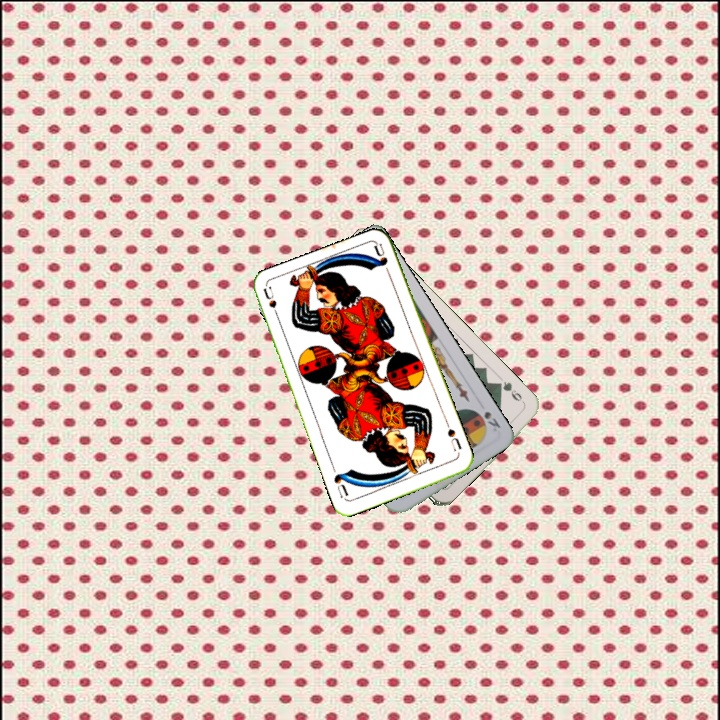G9: (493, 377, 528, 408)
SK: (480, 407, 503, 434)
SU: (260, 284, 283, 324), (443, 425, 464, 453)
